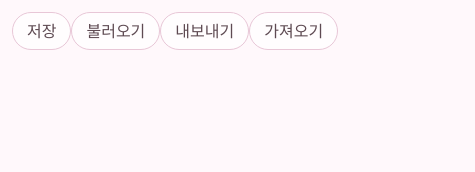
Test case: SaveLoadControls UI: 내보내기 / 가져오기 › "내보내기" 버튼: 다운로드를 시작하고 "백업 파일을 만들었어요."를 표시한다
What coordinates should you click on to do the following:
click the button "내보내기"
I would click on:
 (205, 31)
Its box is x1=160 y1=12 x2=249 y2=50.
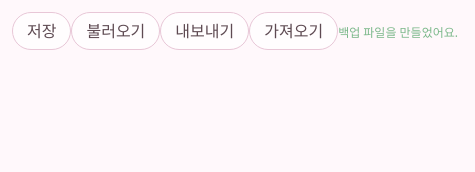
Now the message reads "백업 파일을 만들었어요.", box x1=338 y1=24 x2=458 y2=41
